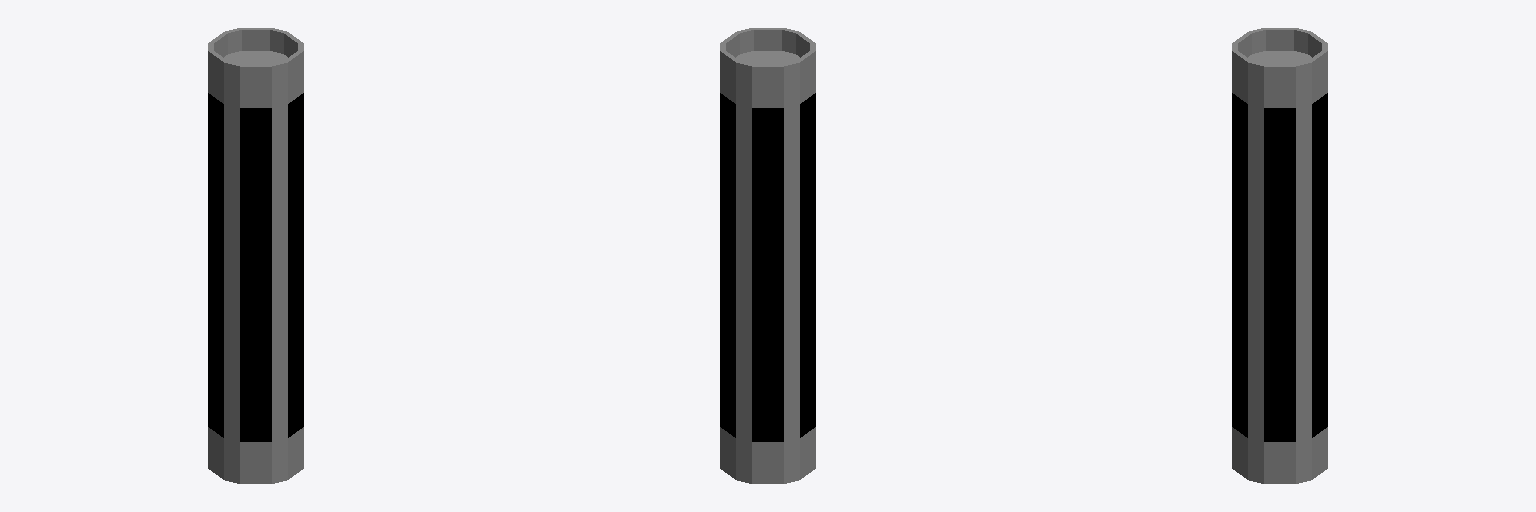
The model's file is catom2D.obj.
3 renders of one model, left to right at view 1: azimuth 30°, elevation 25°; view 2: azimuth 150°, elevation 25°; view 3: azimuth 270°, elevation 25°, orthographic.
Visible parts, largest first — view 1: modelHR; view 2: modelHR; view 3: modelHR.
Part boxes in pixels (x1,y1,x2,y2): modelHR: (208, 28, 303, 483); modelHR: (720, 28, 815, 483); modelHR: (1232, 28, 1327, 483).
Bounding box in the file's own units: 0.9954 × 5 × 1.03.